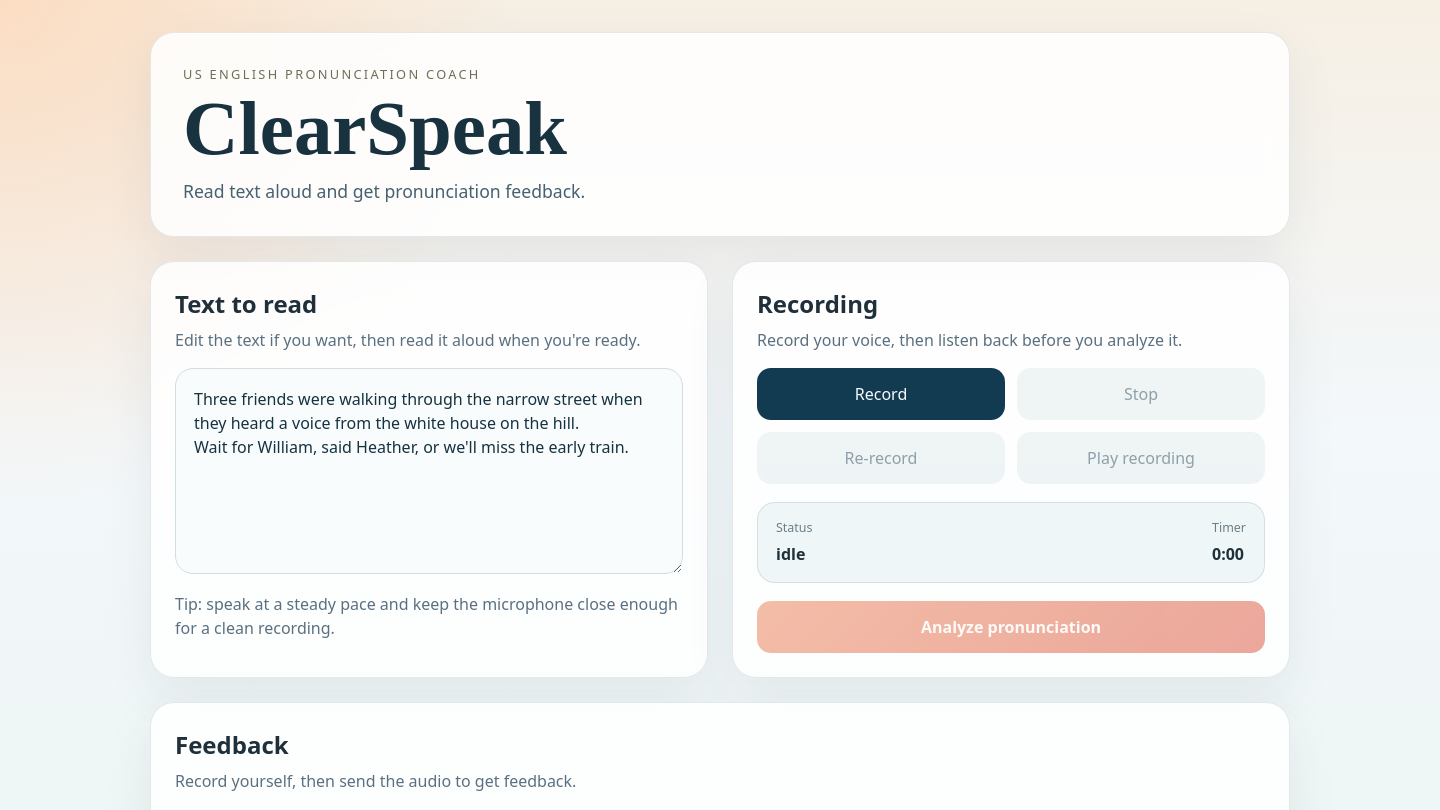
Test: enables analyze after a recording exists
Expected: the button "Analyze pronunciation" is disabled, [757,601,1265,653]
Click the button "Record" at (881, 394), box [757,368,1005,420]
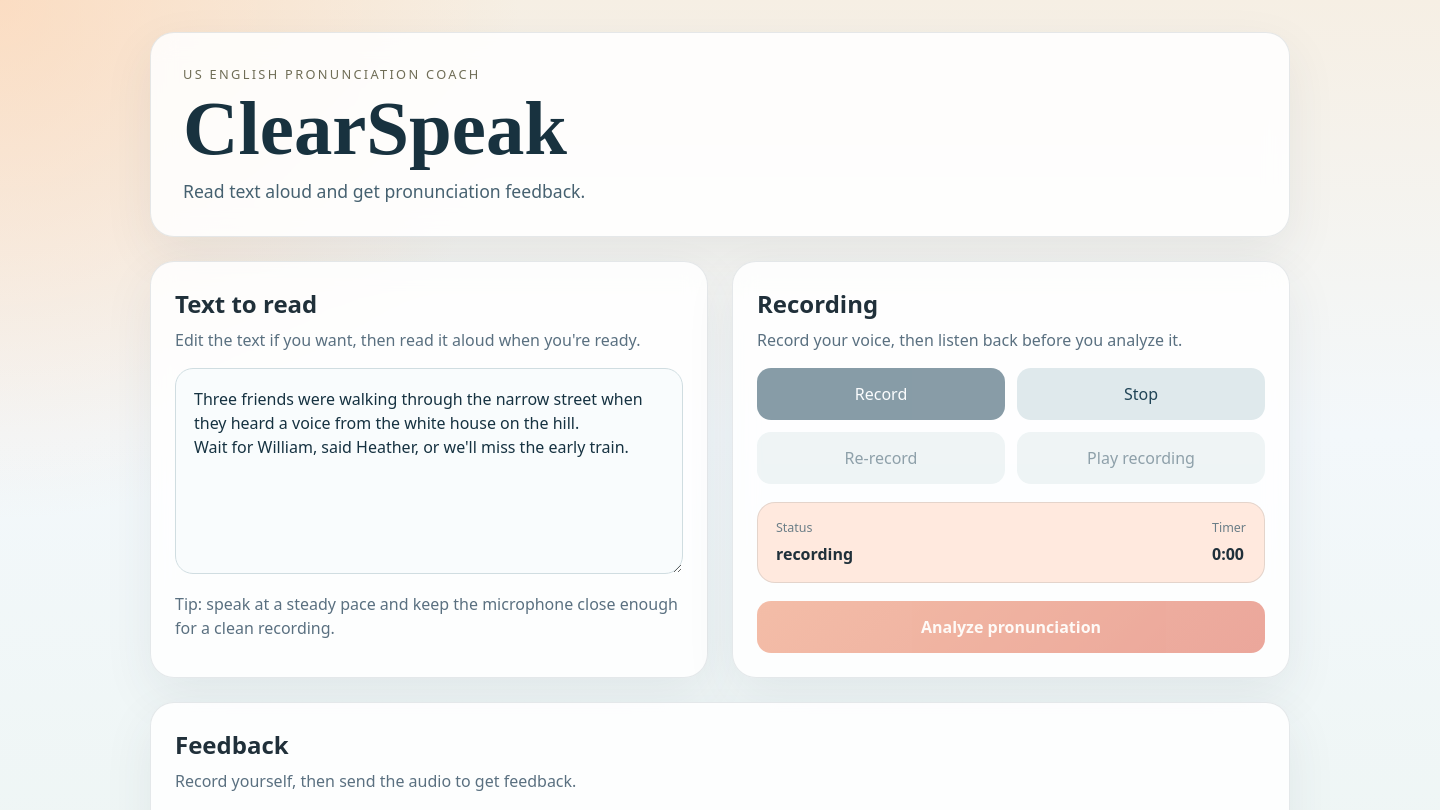
Expected: the button "Stop" is enabled
Click the button "Stop" at (1141, 394), box [1017,368,1265,420]
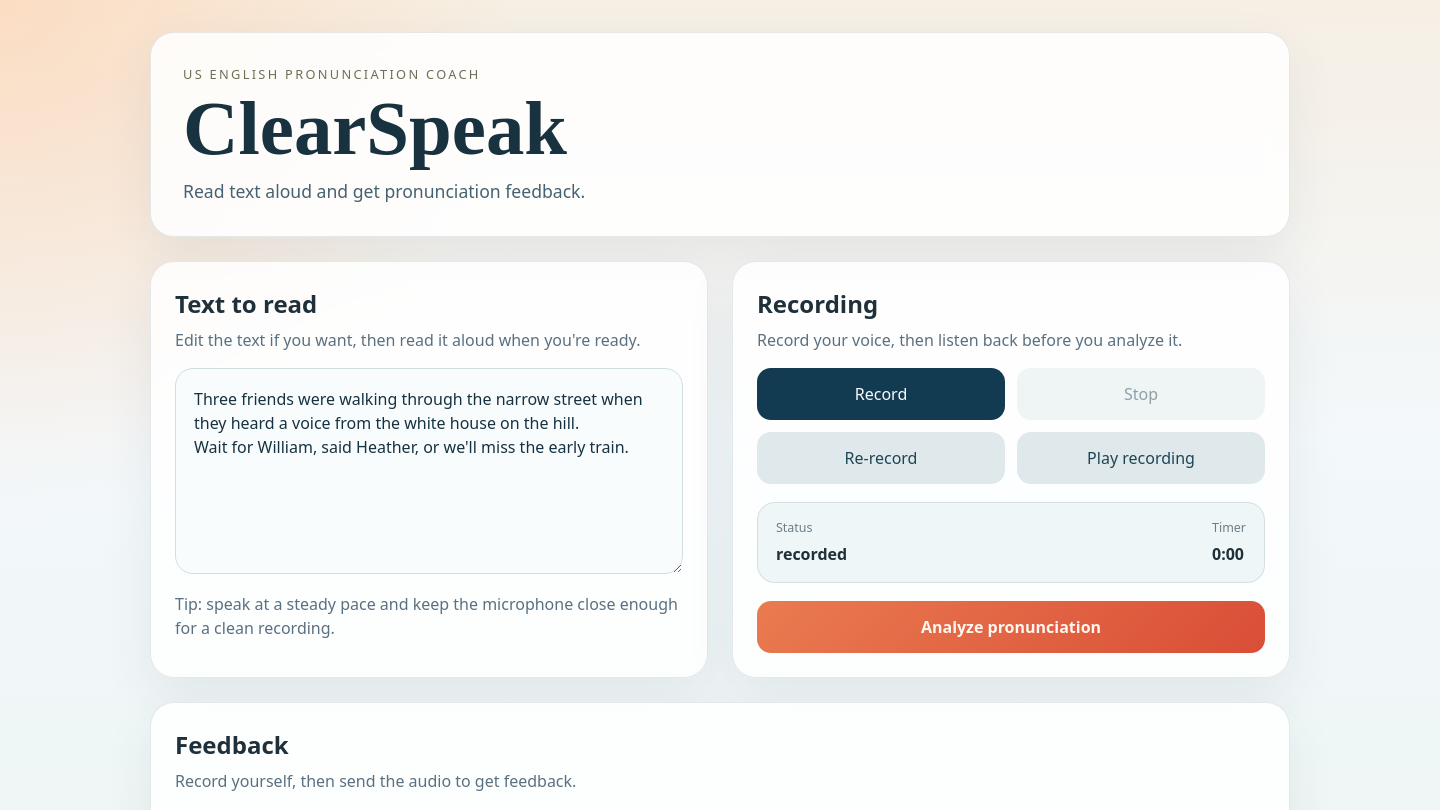
Expected: the button "Analyze pronunciation" is enabled, [757,601,1265,653]
